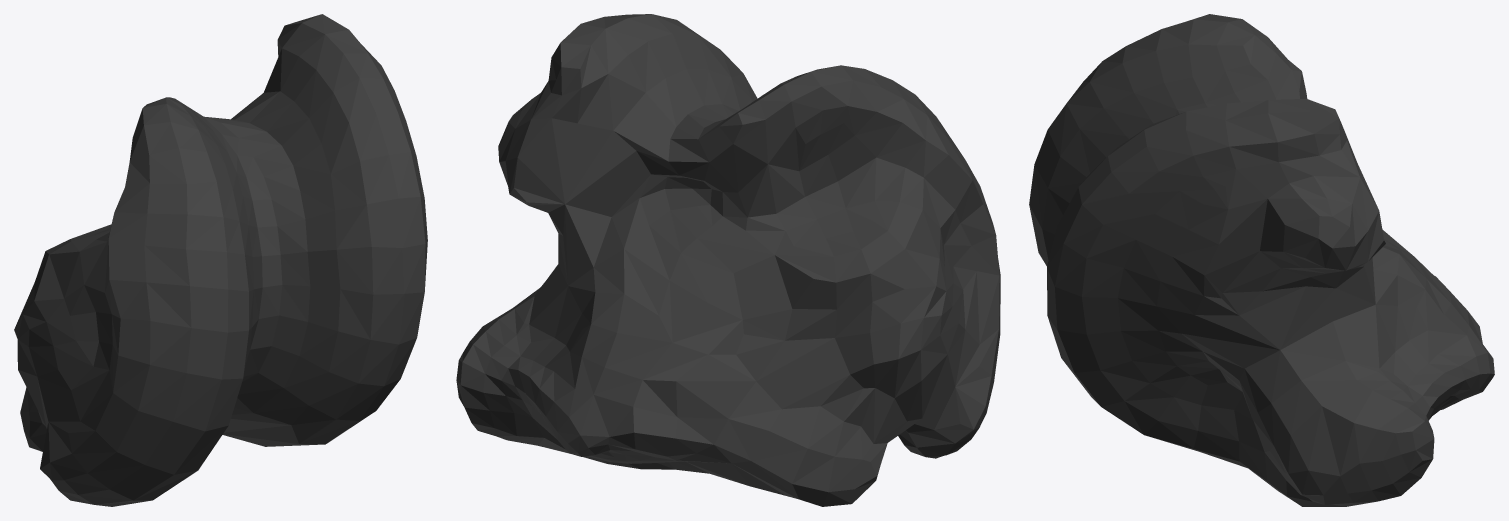
File: Talus_R.glb
3 views of the same model, side by side, from view 1: azimuth 30°, elevation 25°; view 2: azimuth 150°, elevation 25°; view 3: azimuth 270°, elevation 25° (orthographic). The views are drawn at different scales.
Visible parts, largest first — view 1: Talus_R; view 2: Talus_R; view 3: Talus_R.
Part boxes in pixels (x1=…): Talus_R: x1=14, y1=14, x2=427, y2=506; Talus_R: x1=456, y1=14, x2=1000, y2=506; Talus_R: x1=1029, y1=14, x2=1494, y2=506.
Size of the model in its own units: 0.1017 by 0.0942 by 0.0984.
Materials: 1 (1 with a texture image).
